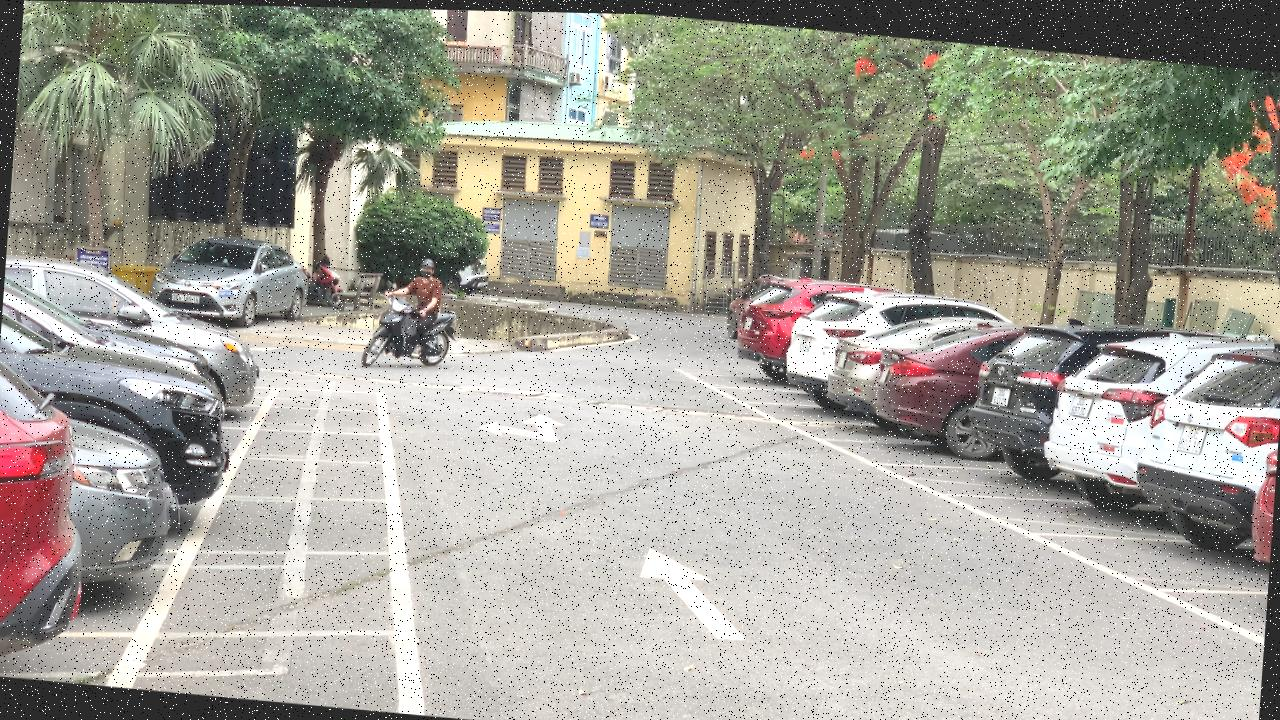helmet: (420, 255, 436, 267)
motorcyclist: (359, 249, 462, 373)
